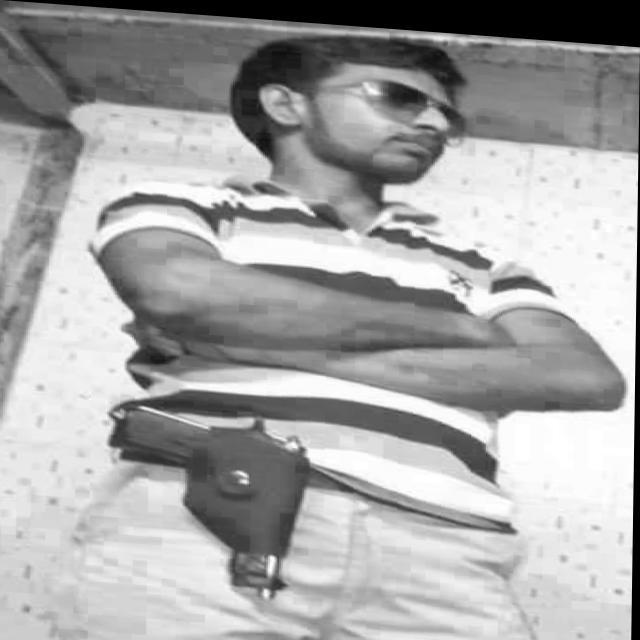weapon: (103, 384, 330, 609)
